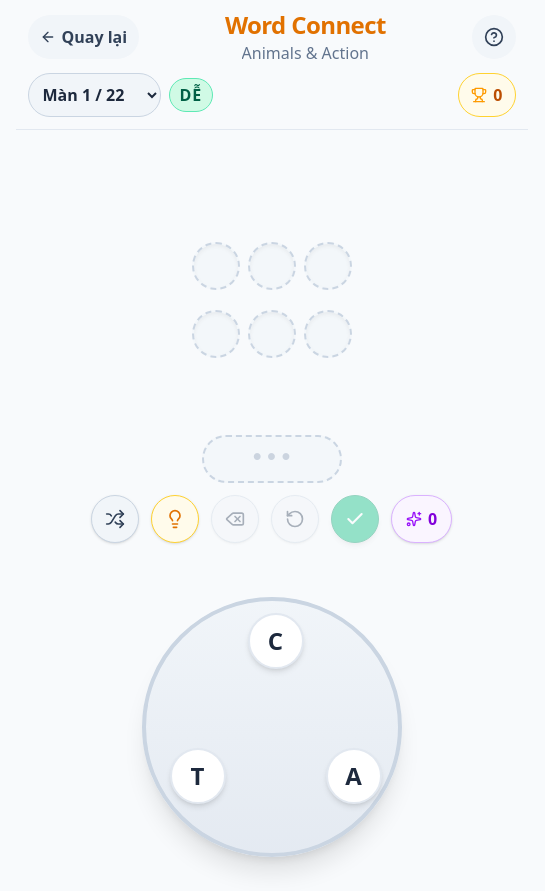
WordConnectPage Integration Suite › allows switching levels using the level dropdown selector
Select "Màn 2 / 22" in the dropdown named "Chọn màn chơi": (94, 95) [28,73,160,117]
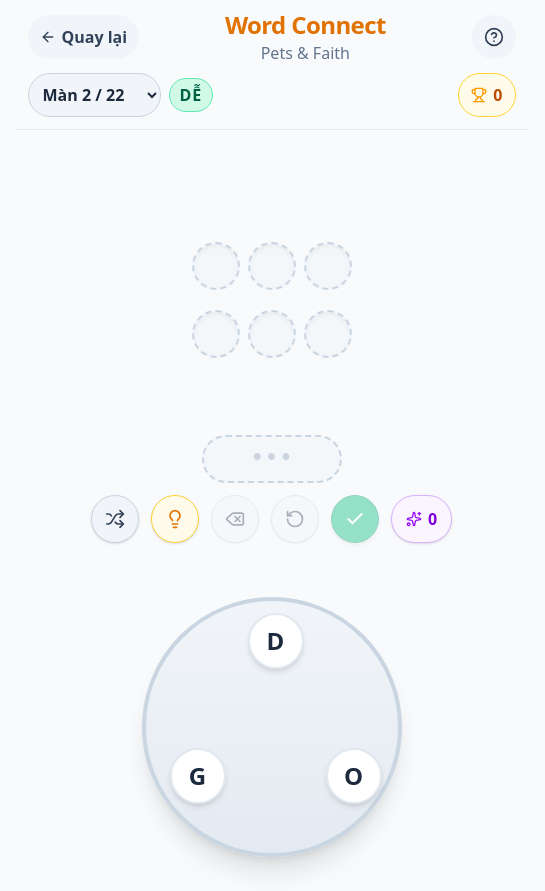
Expected: the button named "Chữ cái D" is shown, [248,613,304,669]
Expected: the button named "Chữ cái O" is shown, [326,748,382,804]
Expected: the button named "Chữ cái G" is shown, [170,748,226,804]
